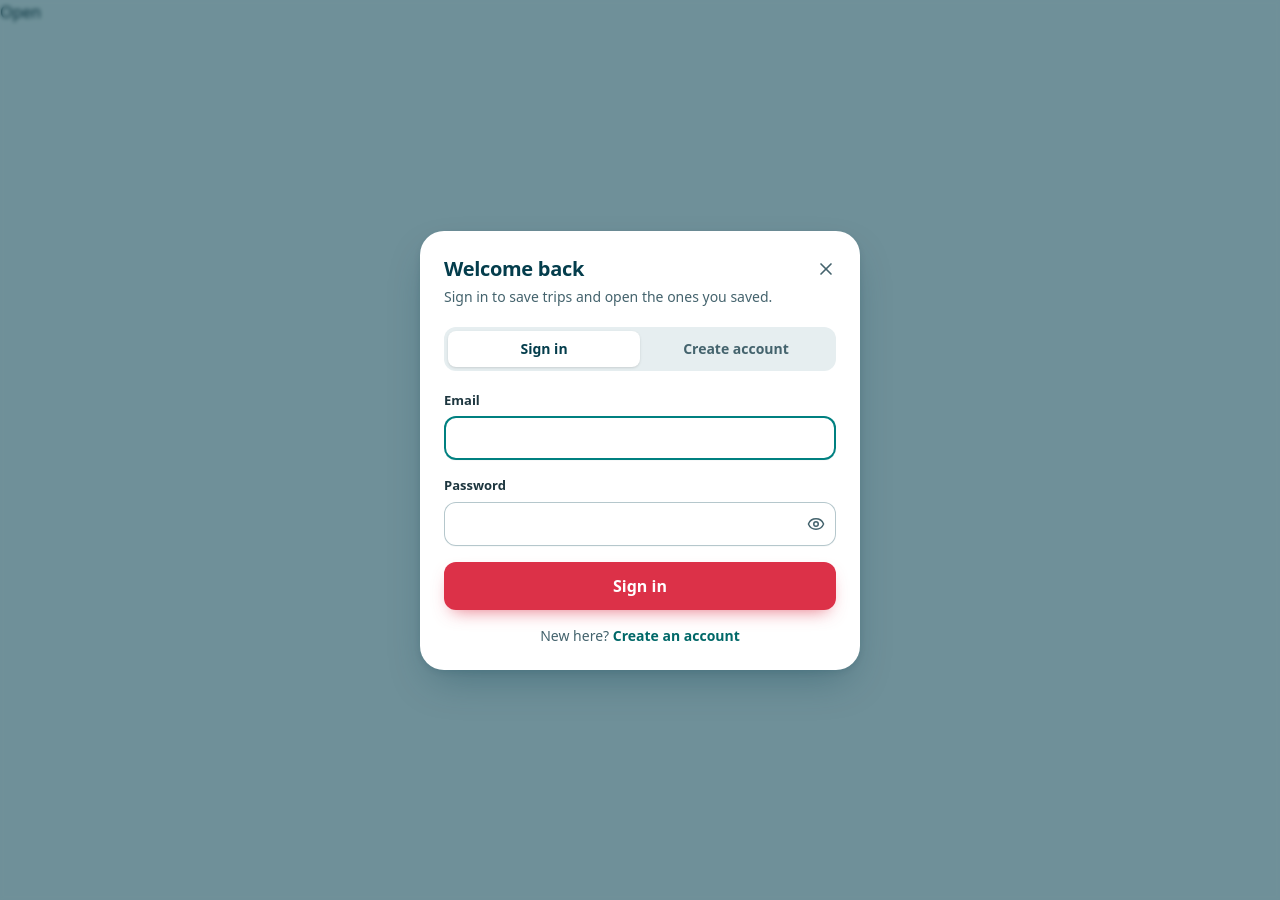
Test: AuthDialog › tabs › switches to create account and adds the name field
What coordinates should you click on to do the following:
click the tab with test id "tab-auth-register"
I would click on:
 (736, 348)
Its box is [640, 330, 832, 366].
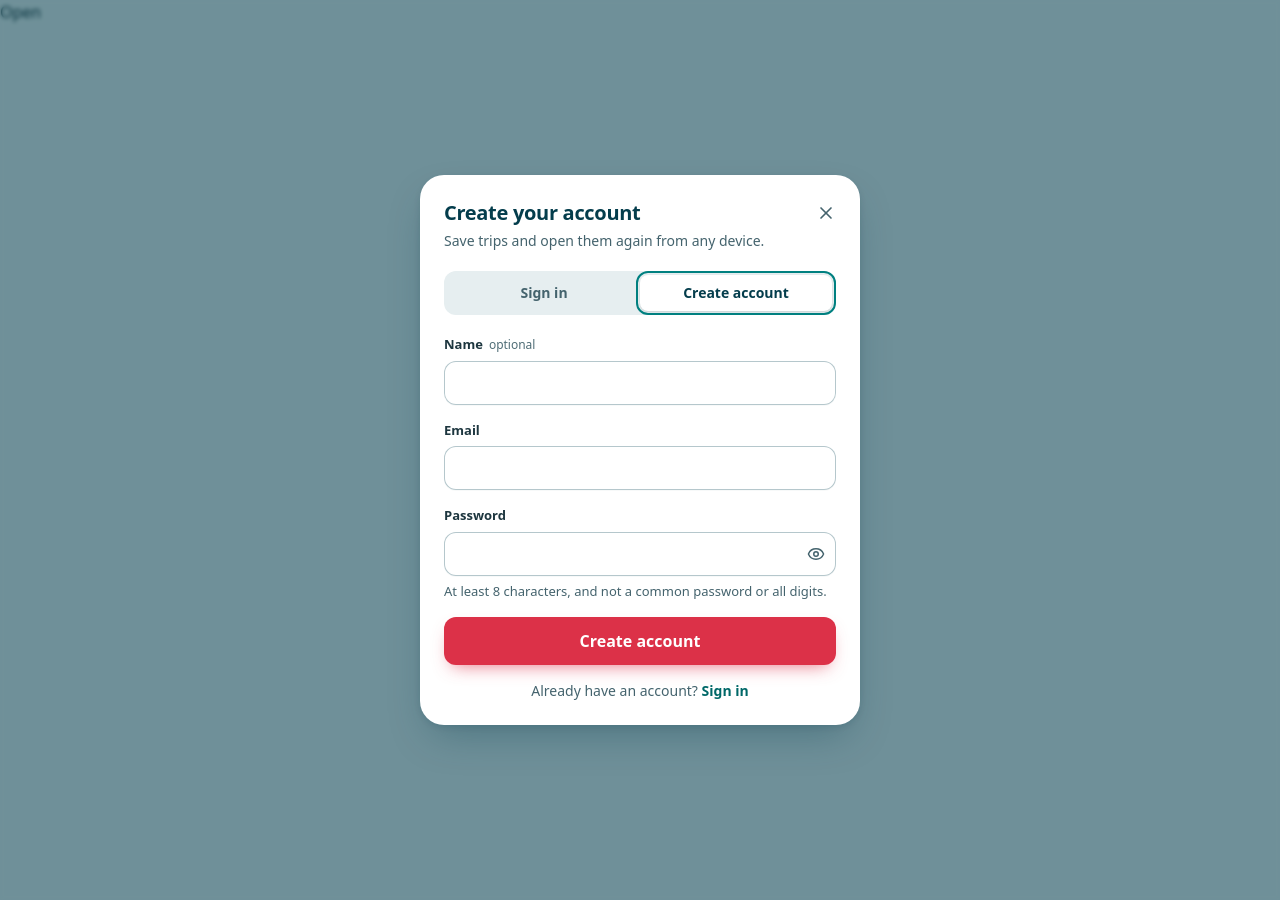
expect the field with test id "input-auth-name" is shown: met, box [444, 360, 836, 404]
expect the button with test id "btn-auth-submit" reads "Create account": met, box [444, 617, 836, 665]
